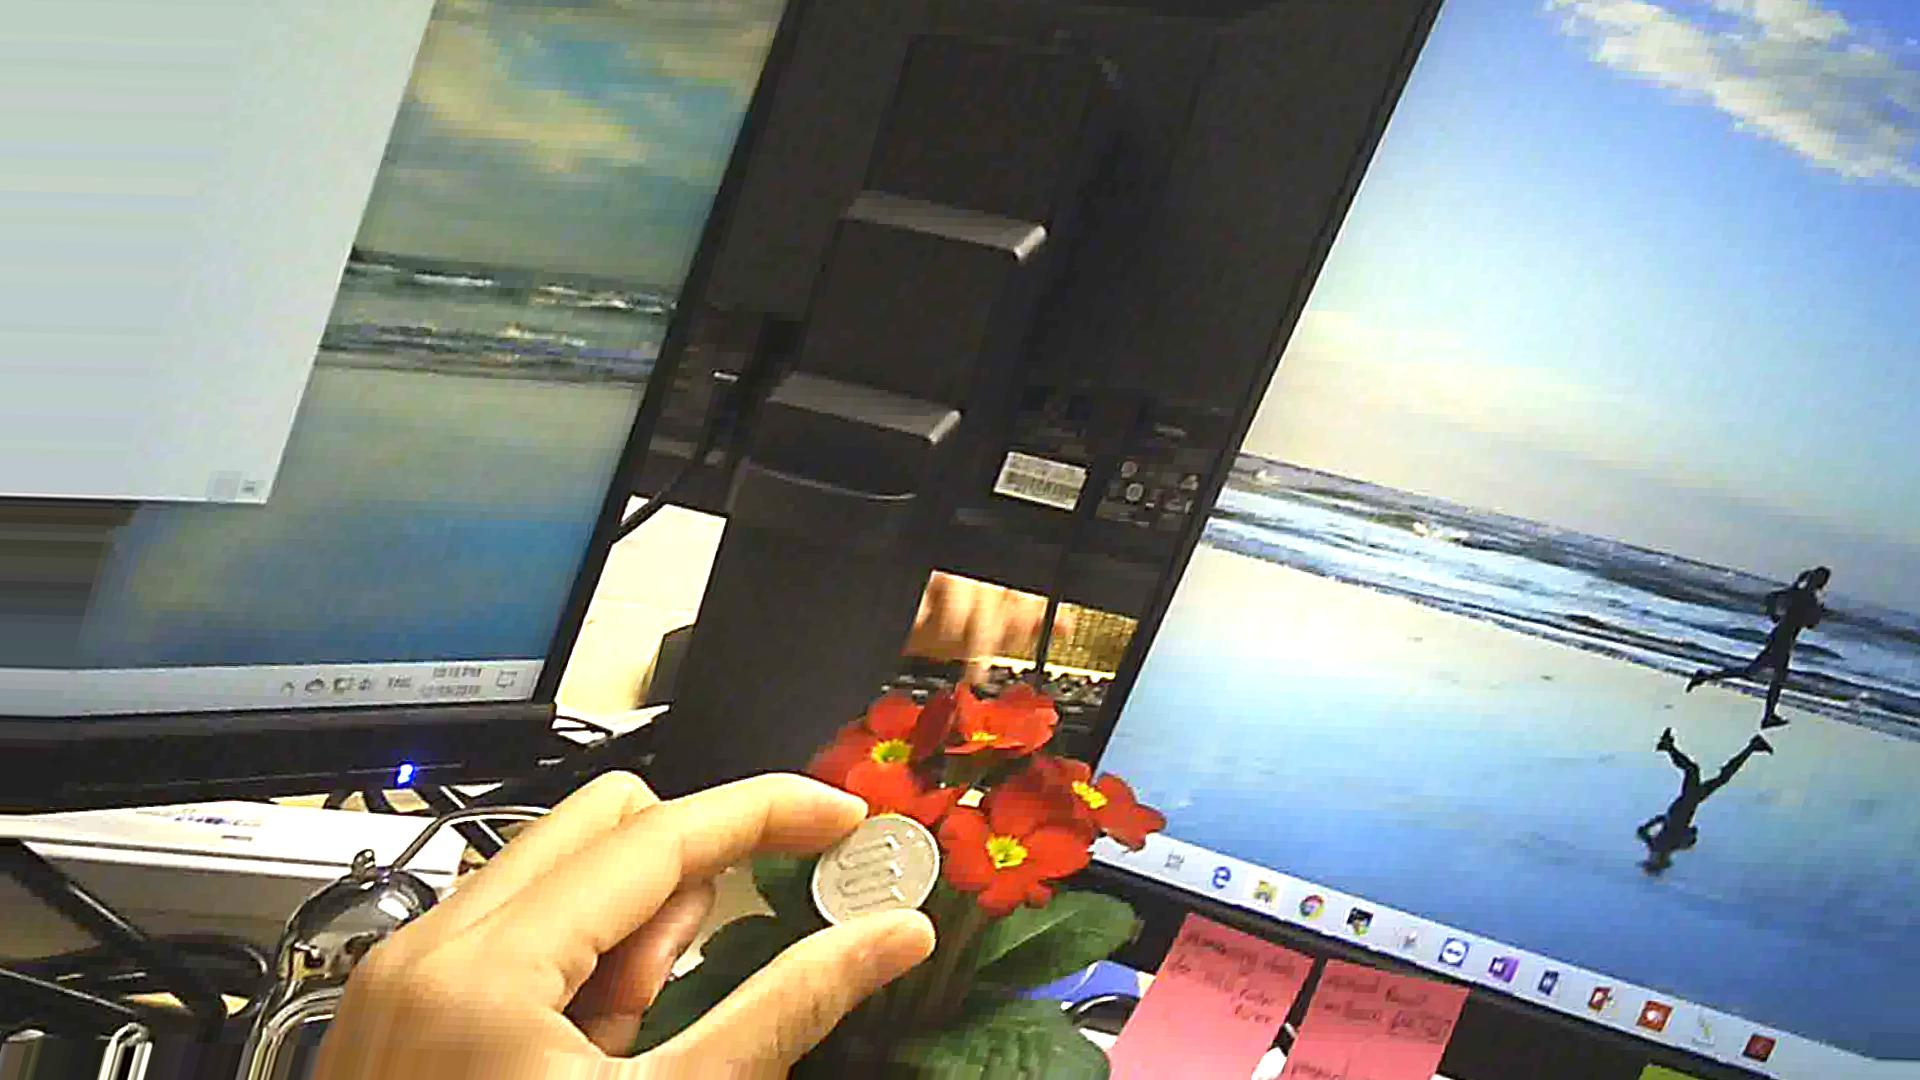100 Yen: (796, 800, 960, 930)
